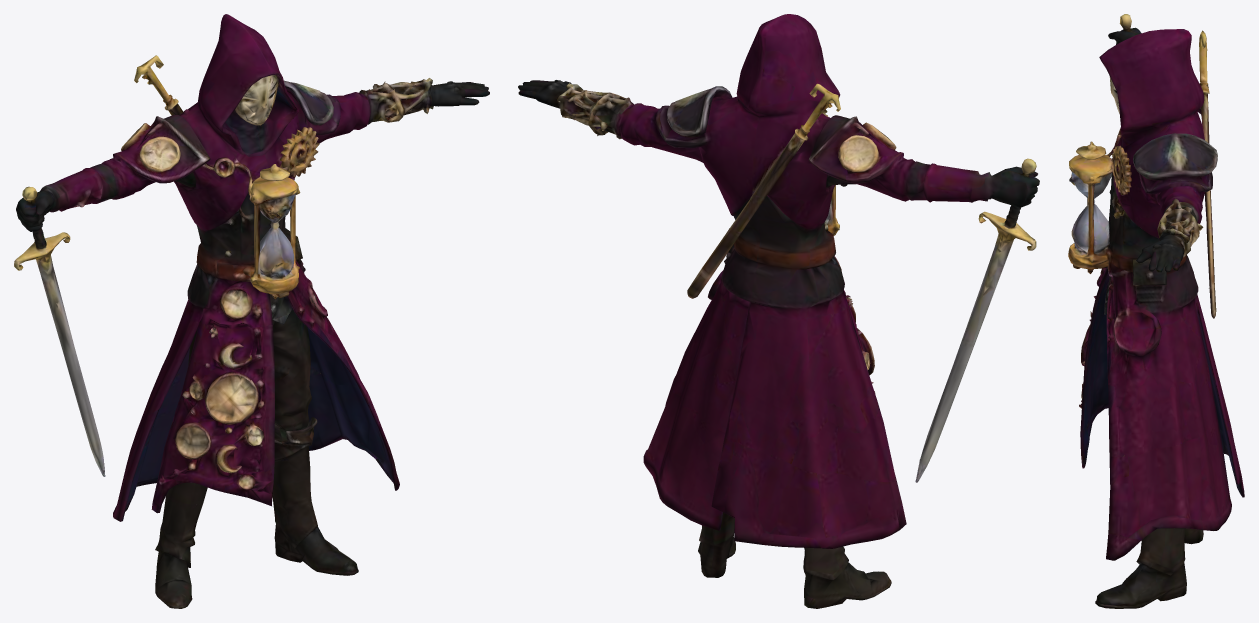
File: chrono_second-hand.glb
3 views of the same model, side by side, from view 1: azimuth 30°, elevation 25°; view 2: azimuth 150°, elevation 25°; view 3: azimuth 270°, elevation 25° (orthographic). The views are drawn at different scales.
Visible parts, largest first — view 1: tripo_node_08677700-1bad-4187-b00e-27fcd50b31ca; view 2: tripo_node_08677700-1bad-4187-b00e-27fcd50b31ca; view 3: tripo_node_08677700-1bad-4187-b00e-27fcd50b31ca.
Part boxes in pixels (bbox=[...]): tripo_node_08677700-1bad-4187-b00e-27fcd50b31ca: bbox=[14, 14, 489, 608]; tripo_node_08677700-1bad-4187-b00e-27fcd50b31ca: bbox=[518, 14, 1039, 608]; tripo_node_08677700-1bad-4187-b00e-27fcd50b31ca: bbox=[1068, 14, 1244, 608].
Size of the model in its own units: 0.9068 by 0.9788 by 0.2907.
1 material, 1 textured.
